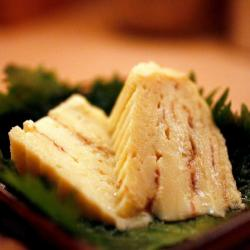apple_pie: (18, 71, 243, 229)
